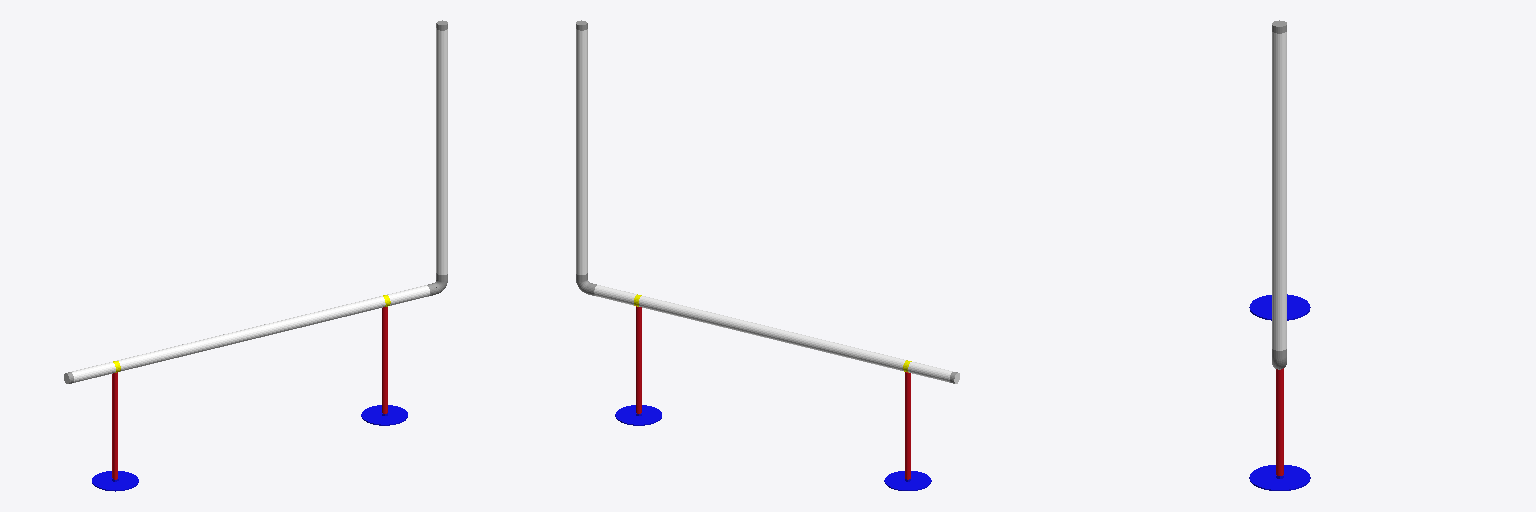
The robot description file, URDF, robot "gate":
<robot name="gate">
  <link name="gate">
    <inertial>
      <origin rpy="0 0 0" xyz="0.9 0.1 0"/>
      <mass value="10"/>
      <inertia ixx="0" ixy="0" ixz="0" iyy="0" iyz="0" izz="0"/>
    </inertial>
    <visual>
      <origin rpy="0 0 0" xyz="0 0 0"/>
      <geometry>
        <mesh filename="package://varun_gazebo/models/gate/meshes/gate.dae"/>
      </geometry>
    </visual>
    <collision>
      <origin rpy="0 0 0" xyz="0 0 0"/>
      <geometry>
        <mesh filename="package://varun_gazebo/models/gate/meshes/gate.dae"/>
      </geometry>
    </collision>
  </link>
</robot>

--- What the picture shows (computed from the rendered views, not written in the file) ---
Views: 3 orthographic renders of the robot side by side, from view 1: azimuth 30°, elevation 25°; view 2: azimuth 150°, elevation 25°; view 3: azimuth 270°, elevation 25°.
Model gate with 1 links and 0 joints (none), rooted at gate, posed every joint at zero.
Links seen in each view (by area): view 1: gate; view 2: gate; view 3: gate.
Link boxes in pixels (x1,y1,x2,y2): gate: (64, 20, 447, 491); gate: (576, 20, 959, 490); gate: (1249, 20, 1310, 490).
Size in the robot's own frame: 1.87 by 0.2 by 1.77 metres.
1 mesh visuals loaded from 1 distinct referenced files (1 Collada DAE).
